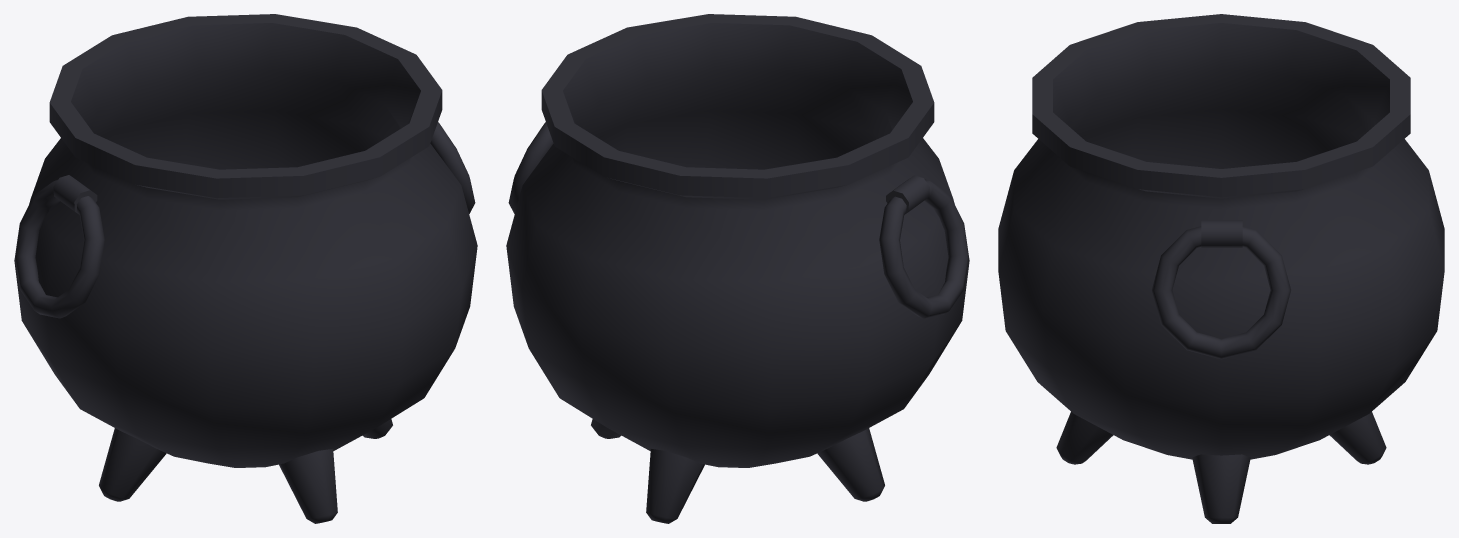
Rendered from Cauldron_01.fbx.
3 views of the same model, side by side, from view 1: azimuth 30°, elevation 25°; view 2: azimuth 150°, elevation 25°; view 3: azimuth 270°, elevation 25° (orthographic).
Parts seen in each view (by area): view 1: Cauldron_01; view 2: Cauldron_01; view 3: Cauldron_01.
Part boxes in pixels (x1,y1,x2,y2): Cauldron_01: (14, 14, 477, 523); Cauldron_01: (506, 14, 969, 523); Cauldron_01: (998, 14, 1444, 523).
Size of the model in its own units: 0.4797 by 0.4048 by 0.4461.
